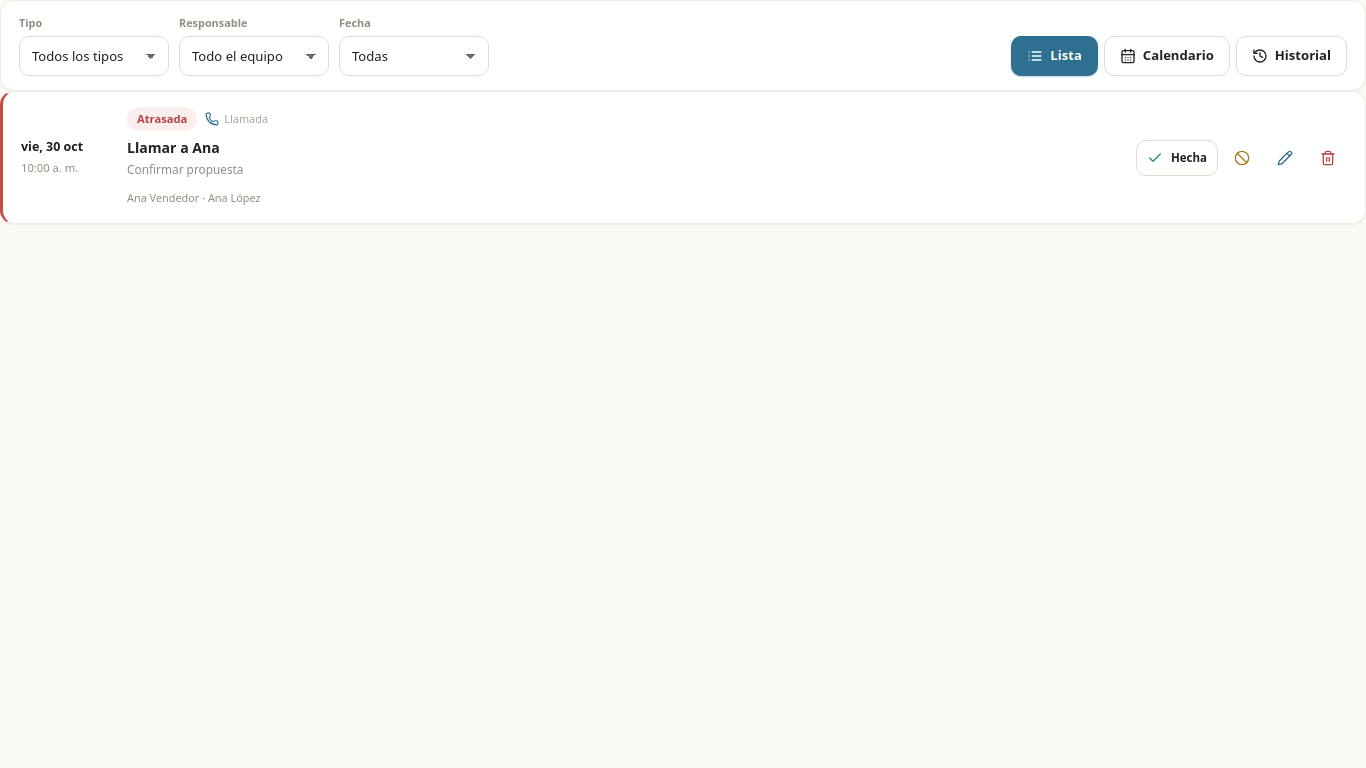
Test: la agenda filtra atrasadas y cambia a calendario
The width and height of the screenshot is (1366, 768).
Select "Atrasadas" in the dropdown named "Filtrar por fecha" at {"x": 414, "y": 56}, box x1=339 y1=36 x2=489 y2=76
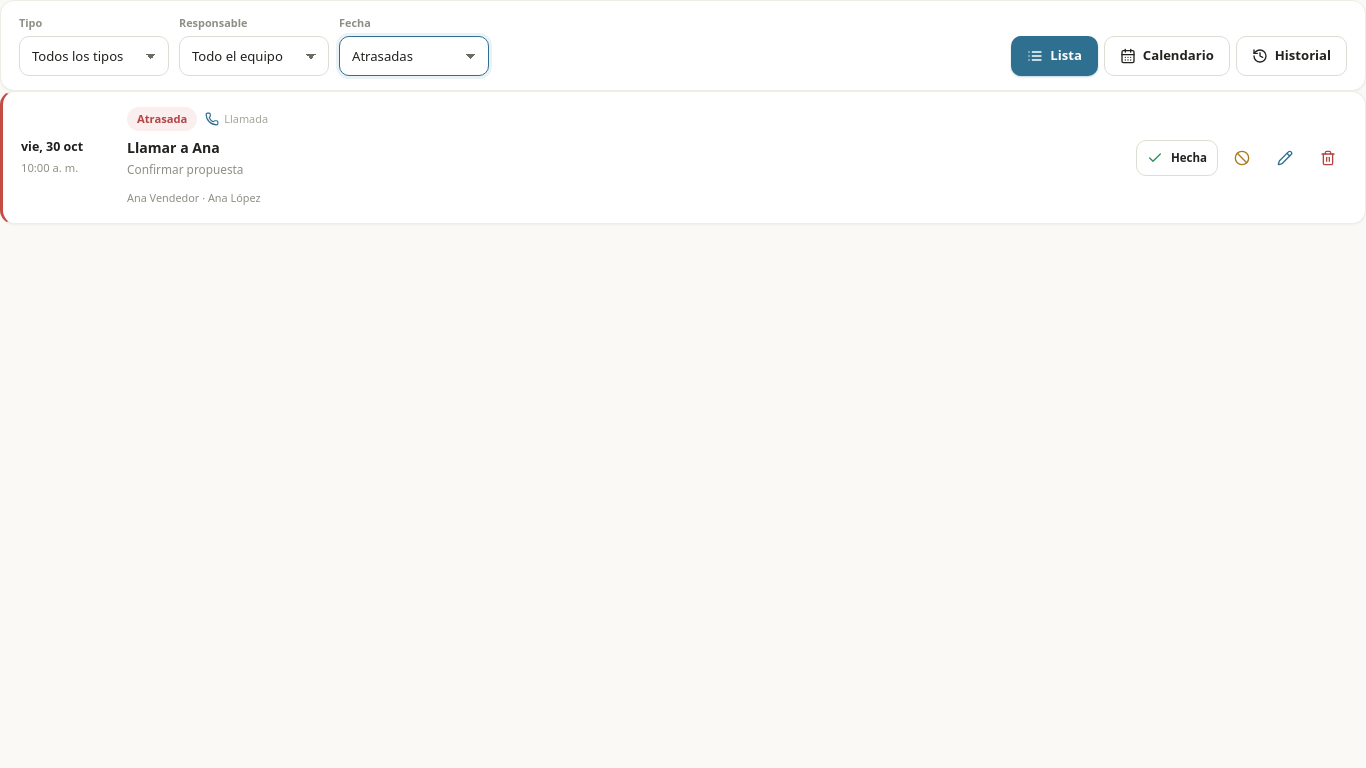
Expected: the text "Atrasada" is shown, x1=127 y1=107 x2=197 y2=131
Click the button "Calendario" at {"x": 1167, "y": 56}, box x1=1104 y1=36 x2=1230 y2=76
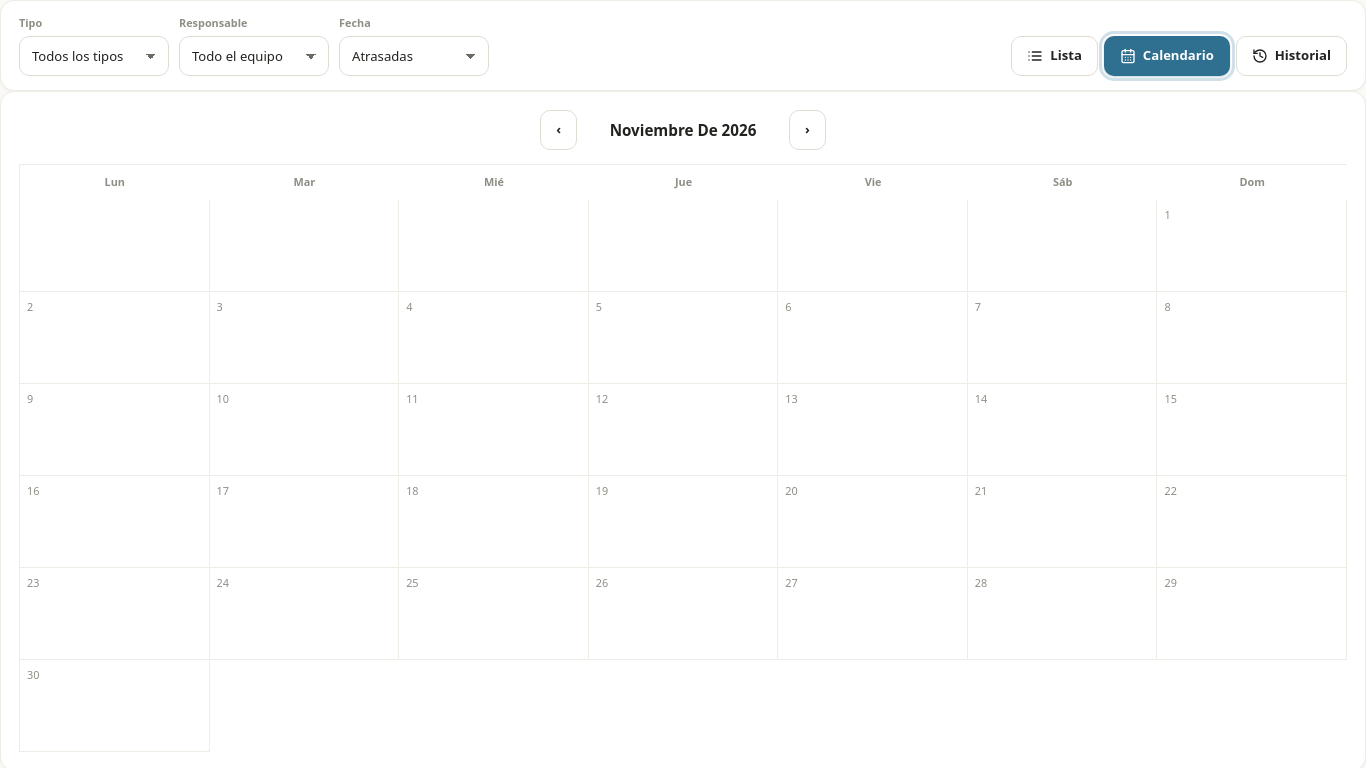
Expected: the table is shown
